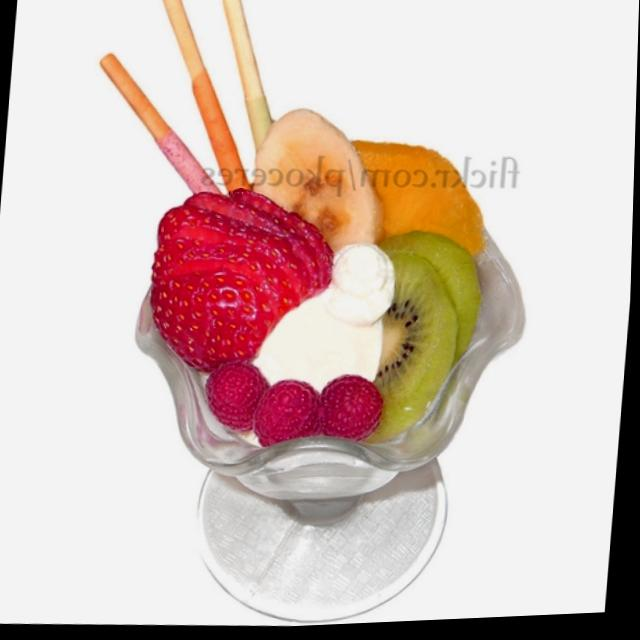蛋糕甜品: (0, 0, 629, 640)
